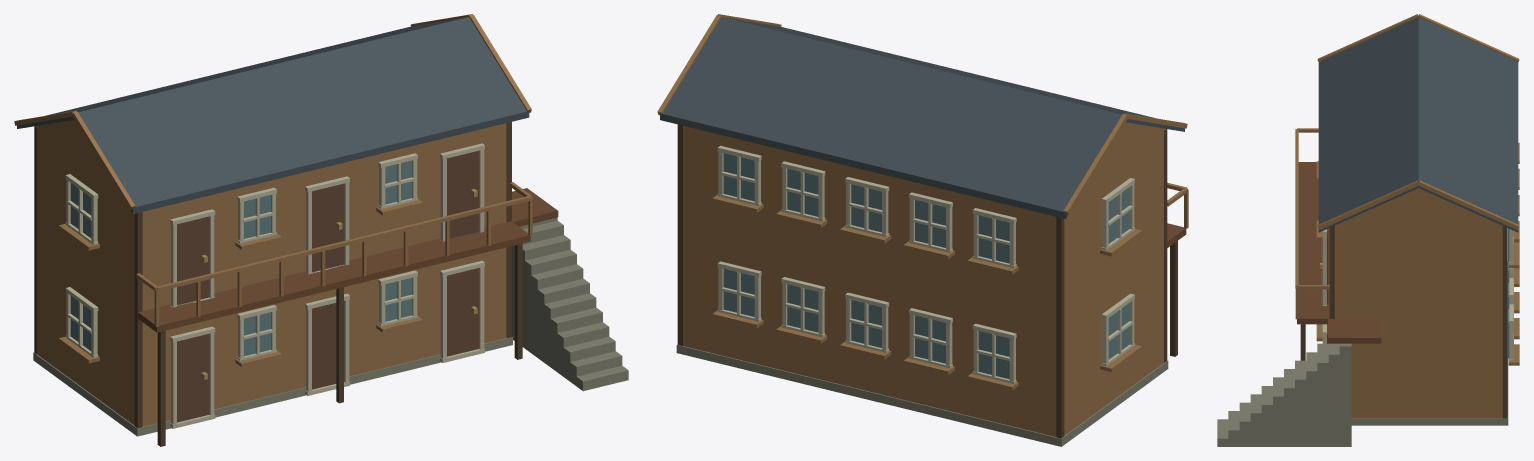
Rendered from Building_Settlement_RailWorkersBunkhouse_001.glb.
3 views of the same model, side by side, from view 1: azimuth 30°, elevation 25°; view 2: azimuth 150°, elevation 25°; view 3: azimuth 270°, elevation 25° (orthographic). The views are drawn at different scales.
Visible parts, largest first — view 1: Building_Settlement_RailWorkersBunkhouse_001; view 2: Building_Settlement_RailWorkersBunkhouse_001; view 3: Building_Settlement_RailWorkersBunkhouse_001.
Boxes of the visible parts, x1,y1,x2,y2 form: Building_Settlement_RailWorkersBunkhouse_001: (14,14,628,446); Building_Settlement_RailWorkersBunkhouse_001: (657,14,1188,446); Building_Settlement_RailWorkersBunkhouse_001: (1217,14,1519,446).
Size of the model in its own units: 10.58 by 6.66 by 7.34.
